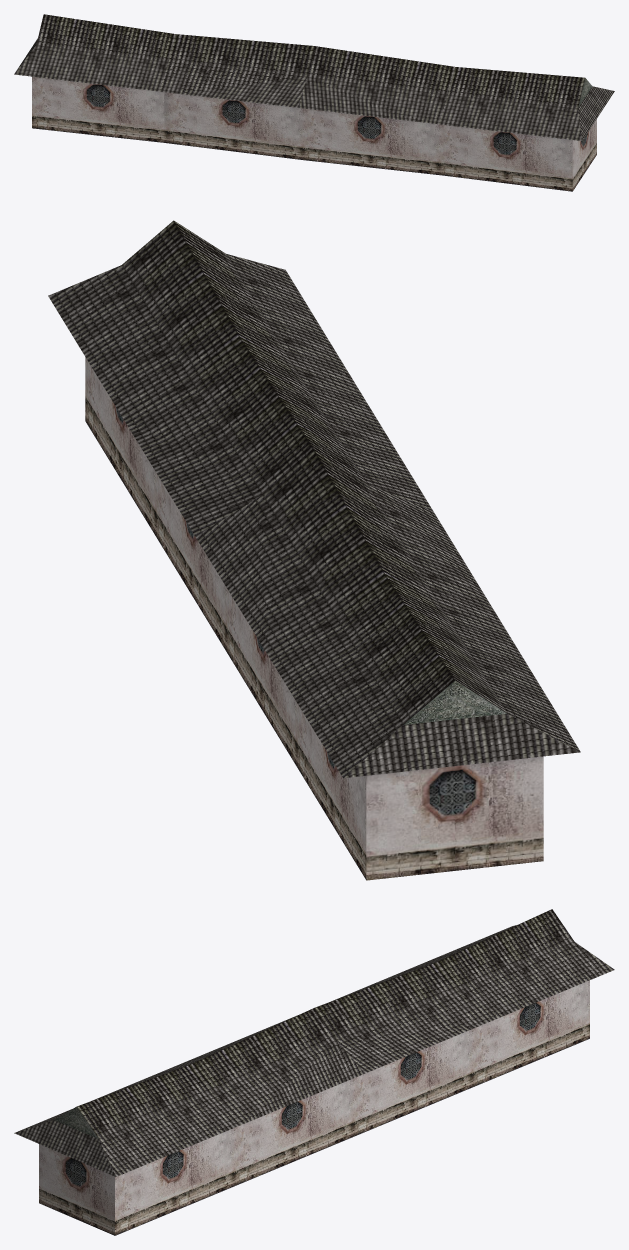
File: ian0190.obj
The picture shows the model from 3 angles, top to bottom: view 1: azimuth 30°, elevation 25°; view 2: azimuth 150°, elevation 25°; view 3: azimuth 270°, elevation 25°; orthographic projection. The views are drawn at different scales.
Parts seen in each view (by area): view 1: ian0190; view 2: ian0190; view 3: ian0190.
Boxes of the visible parts, left/top/right/bottom form: ian0190: left=14, top=14, right=614, bottom=191; ian0190: left=48, top=220, right=580, bottom=880; ian0190: left=14, top=909, right=614, bottom=1235.
Bounding box in the file's own units: 547 × 115 × 554.
